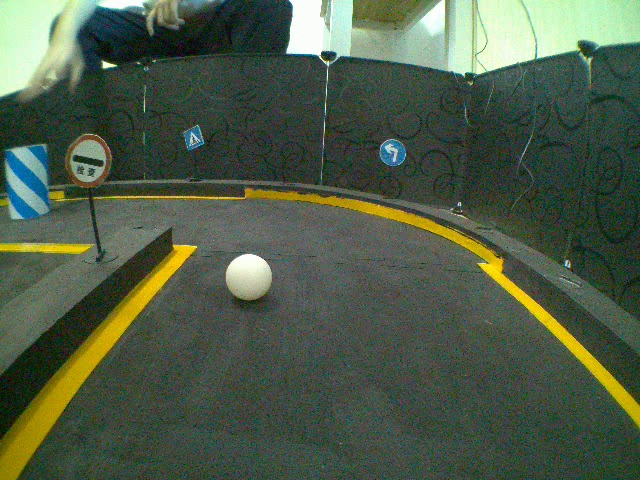ball: (223, 251, 273, 301)
bucket: (3, 147, 52, 219)
